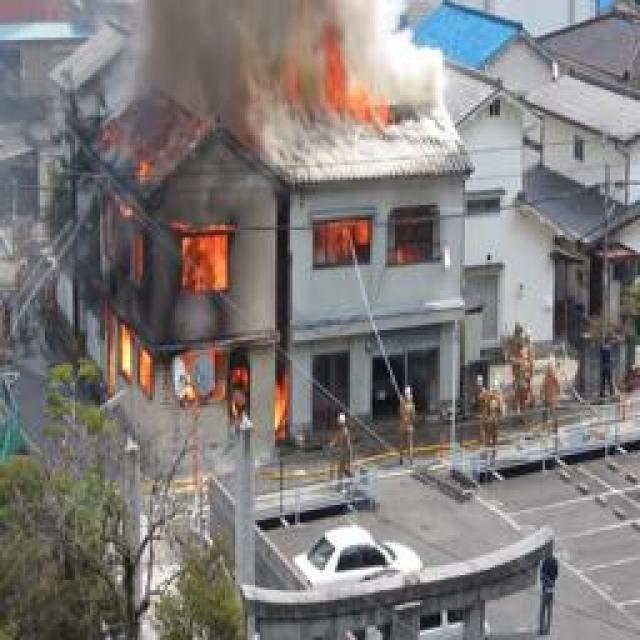Fire: (93, 158, 291, 438), (292, 42, 398, 128), (312, 219, 412, 269)
